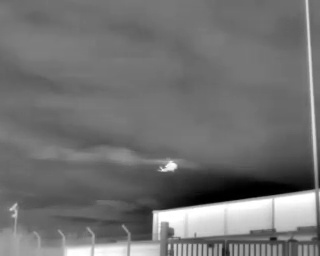HELICOPTER: (153, 154, 184, 177)
